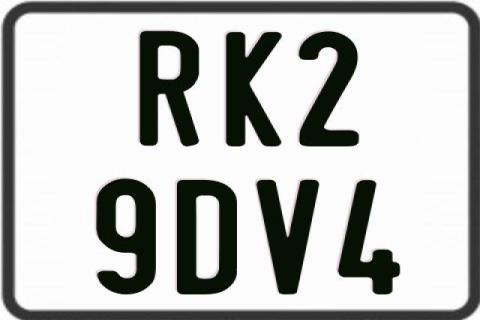0: (336, 178, 398, 296), (94, 178, 155, 294), (297, 31, 357, 148)
D: (177, 179, 240, 299)
K: (223, 30, 285, 144)
R: (139, 30, 200, 148)
V: (254, 178, 324, 292)
